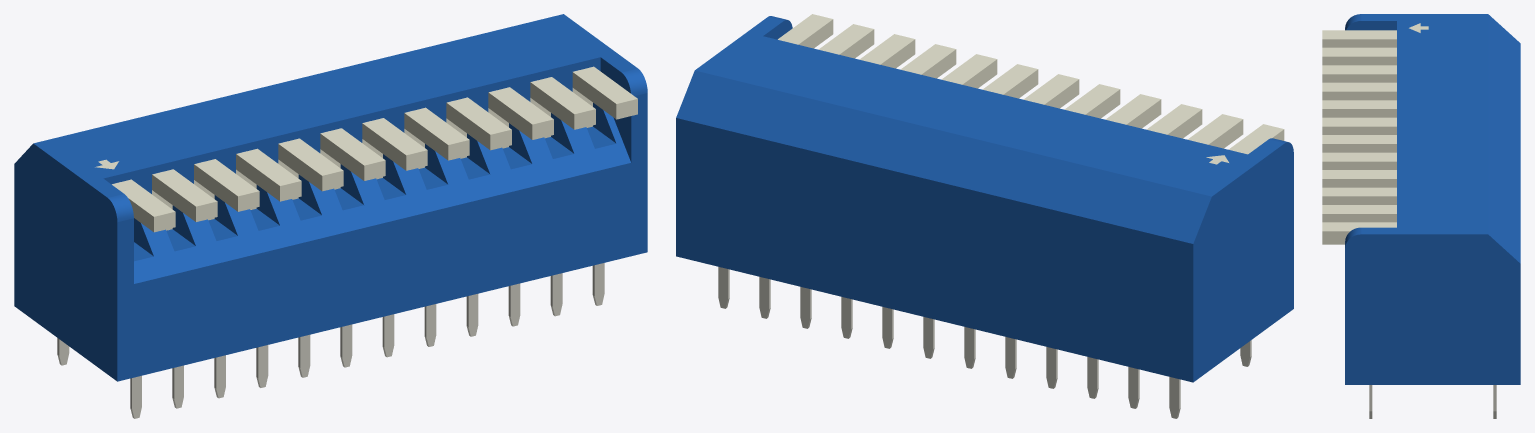
Rendered from kc-sw_dip_spstx12_piano_10.8x32.04mm_w7.62mm_p2.54mm.glb.
The picture shows the model from 3 angles, left to right: view 1: azimuth 30°, elevation 25°; view 2: azimuth 150°, elevation 25°; view 3: azimuth 270°, elevation 25°; orthographic projection. The views are drawn at different scales.
Visible parts, largest first — view 1: 0_0.16666666666666666_0.5_0, 0.75_0.75_0.6666666666666666_0, 0.6666666666666666_0.6666666666666666_0.5833333333333334_0.8; view 2: 0_0.16666666666666666_0.5_0, 0.75_0.75_0.6666666666666666_0, 0.6666666666666666_0.6666666666666666_0.5833333333333334_0.8; view 3: 0_0.16666666666666666_0.5_0, 0.75_0.75_0.6666666666666666_0, 0.6666666666666666_0.6666666666666666_0.5833333333333334_0.8.
Boxes of the visible parts, box(x1,y1,x2,y2) form: 0_0.16666666666666666_0.5_0: box(14, 14, 647, 381); 0.75_0.75_0.6666666666666666_0: box(95, 66, 637, 232); 0.6666666666666666_0.6666666666666666_0.5833333333333334_0.8: box(57, 263, 604, 418); 0_0.16666666666666666_0.5_0: box(676, 16, 1293, 382); 0.75_0.75_0.6666666666666666_0: box(778, 14, 1284, 164); 0.6666666666666666_0.6666666666666666_0.5833333333333334_0.8: box(718, 267, 1251, 418); 0_0.16666666666666666_0.5_0: box(1345, 14, 1520, 384); 0.75_0.75_0.6666666666666666_0: box(1322, 23, 1428, 244); 0.6666666666666666_0.6666666666666666_0.5833333333333334_0.8: box(1369, 385, 1496, 418).
Size of the model in its own units: 3.2 by 1.34 by 1.22.
